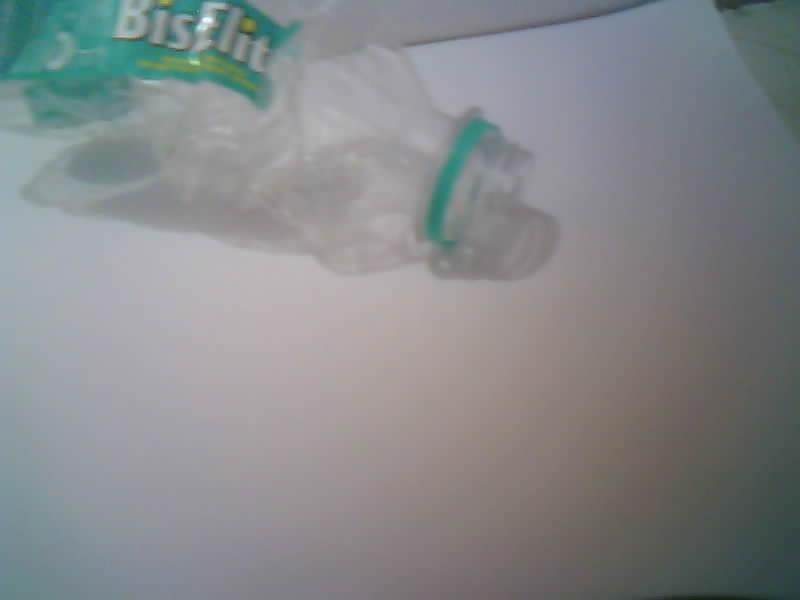non-biodegradable: (0, 0, 554, 279)
